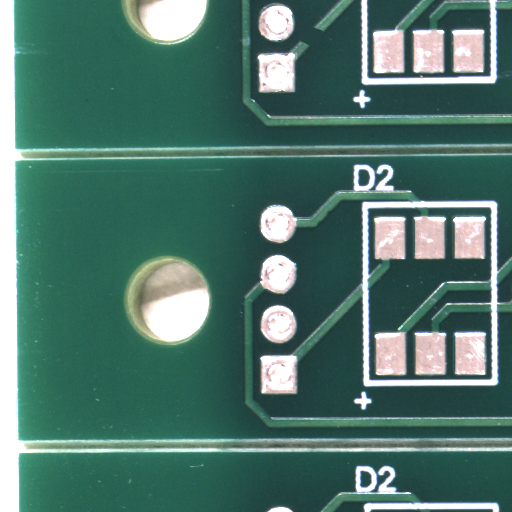Open_circuit: (312, 37, 337, 59)
